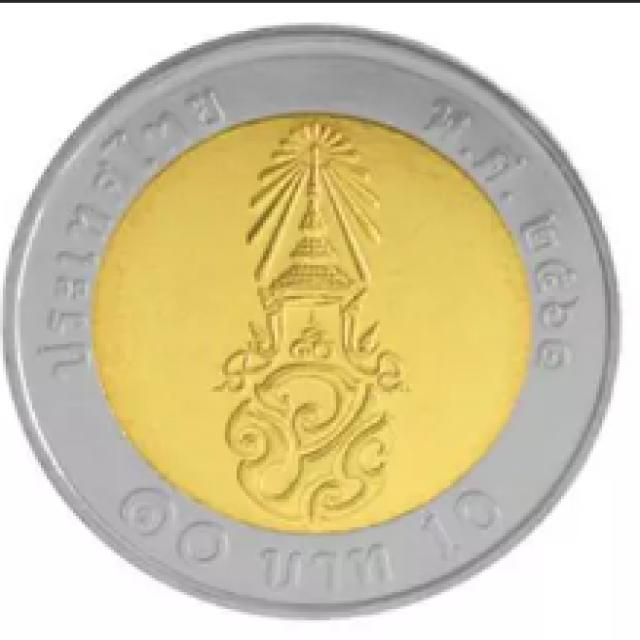10 Bath: (1, 10, 633, 638)
